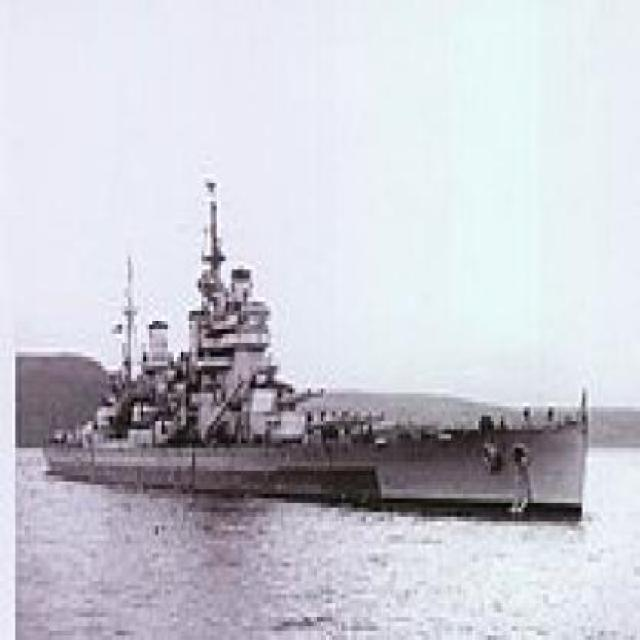warship2: (47, 158, 593, 527)
